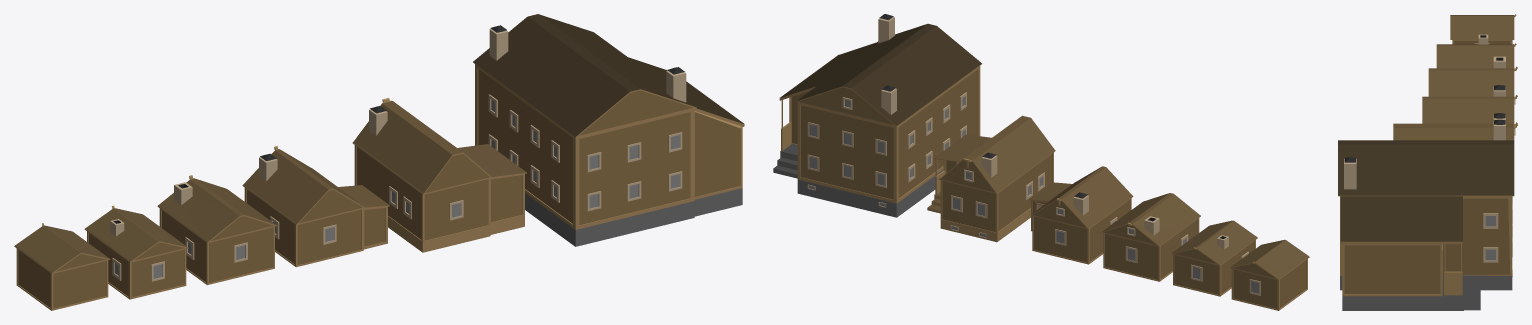
Rendered from Houses.fbx.
The picture shows the model from 3 angles, left to right: view 1: azimuth 30°, elevation 25°; view 2: azimuth 150°, elevation 25°; view 3: azimuth 270°, elevation 25°; orthographic projection. The views are drawn at different scales.
Visible parts, largest first — view 1: House LVL6, House LVL5, House LVL4, House LVL3, House LVL2, House LVL1; view 2: House LVL6, House LVL5, House LVL4, House LVL3, House LVL1, House LVL2; view 3: House LVL6, House LVL4, House LVL3, House LVL5, House LVL2, House LVL1.
Boxes of the visible parts, x1,y1,x2,y2 form: House LVL6: (473, 14, 744, 246); House LVL5: (352, 98, 526, 252); House LVL4: (242, 146, 389, 267); House LVL3: (157, 175, 276, 285); House LVL2: (84, 205, 188, 299); House LVL1: (14, 223, 110, 310); House LVL6: (773, 14, 982, 217); House LVL5: (927, 115, 1055, 242); House LVL4: (1029, 166, 1133, 264); House LVL3: (1101, 193, 1200, 281); House LVL1: (1230, 239, 1309, 310); House LVL2: (1171, 220, 1257, 296); House LVL6: (1338, 119, 1514, 310); House LVL4: (1422, 85, 1517, 123); House LVL3: (1428, 56, 1517, 96); House LVL5: (1393, 113, 1517, 140); House LVL2: (1436, 34, 1516, 68); House LVL1: (1450, 14, 1516, 44).
Size of the model in its own units: 3111 by 704 by 898.
